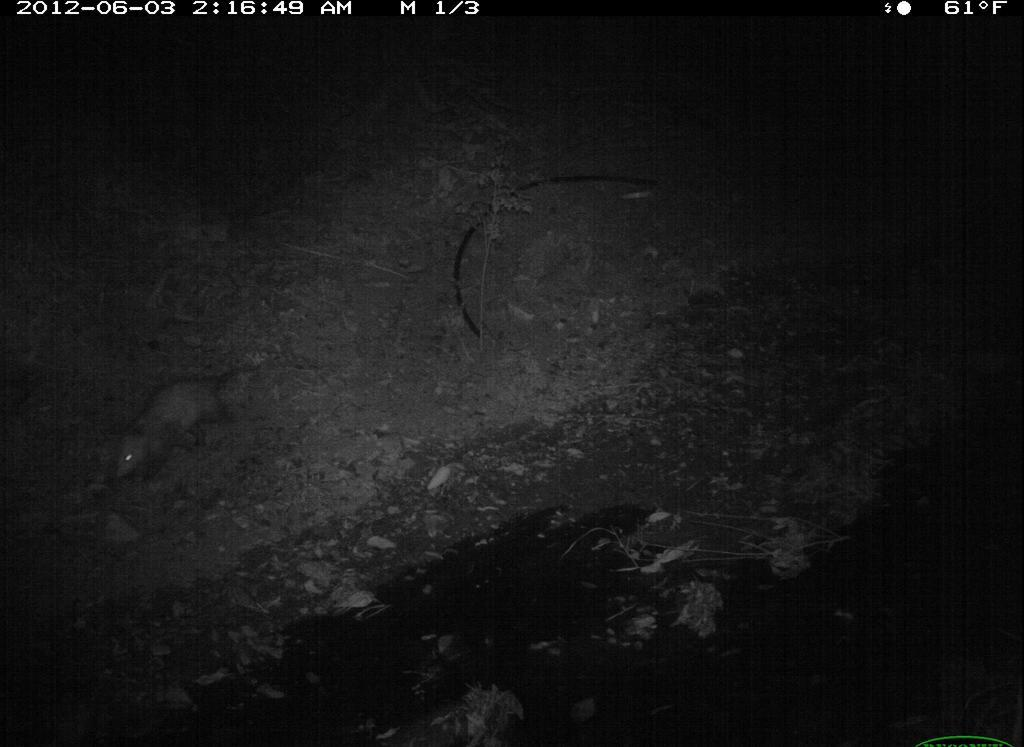opossum: (98, 353, 279, 486)
